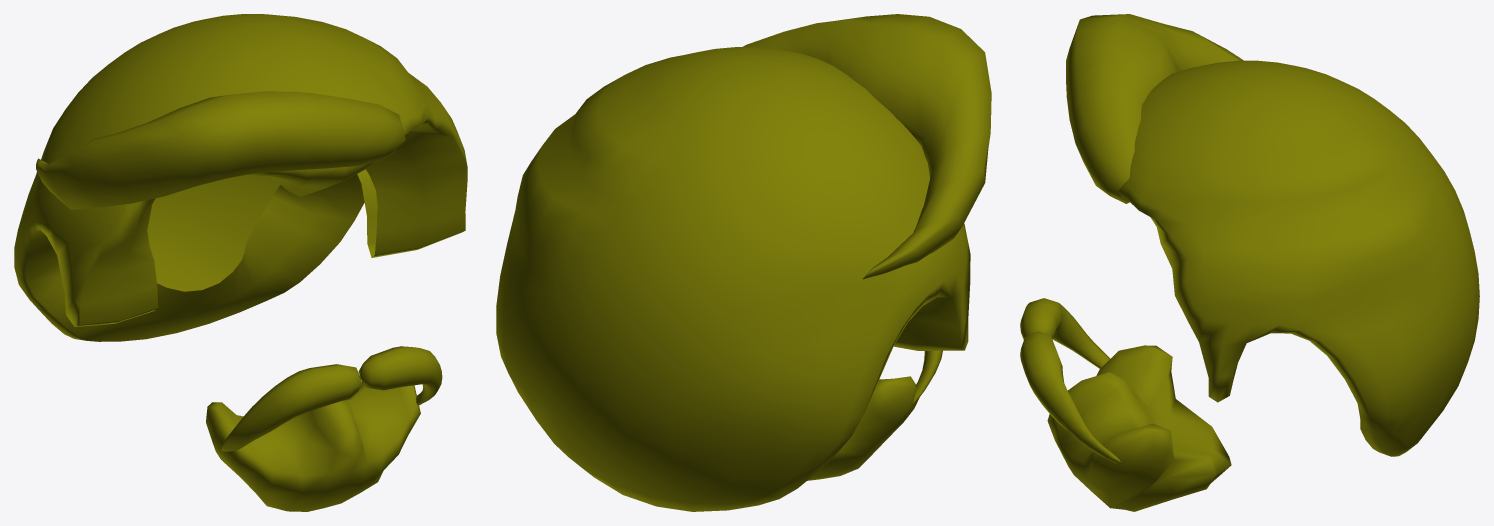
Rendered from HeadPiece_Male5.fbx.
The picture shows the model from 3 angles, left to right: view 1: azimuth 30°, elevation 25°; view 2: azimuth 150°, elevation 25°; view 3: azimuth 270°, elevation 25°; orthographic projection. The views are drawn at different scales.
Parts seen in each view (by area): view 1: HeadPiece_Male5; view 2: HeadPiece_Male5; view 3: HeadPiece_Male5.
Boxes of the visible parts, x1,y1,x2,y2 form: HeadPiece_Male5: (14,14,467,511); HeadPiece_Male5: (496,14,991,511); HeadPiece_Male5: (1020,14,1479,511).
Size of the model in its own units: 0.2297 by 0.2427 by 0.233.
